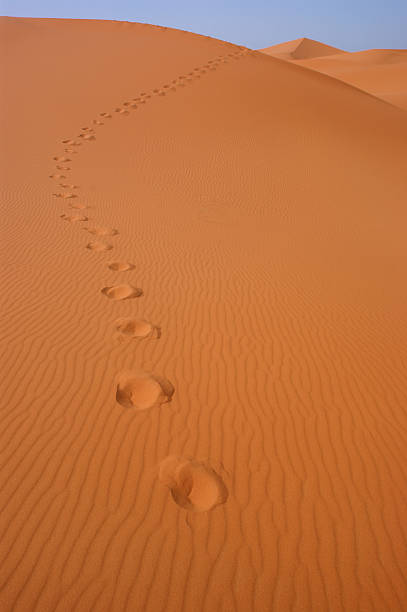animal_footprint: (159, 456, 227, 511), (116, 371, 174, 410), (114, 317, 160, 341), (101, 284, 142, 299), (84, 226, 118, 235), (107, 261, 135, 271), (86, 241, 112, 251), (60, 213, 87, 222), (52, 192, 77, 198), (78, 133, 95, 141), (58, 183, 78, 189), (68, 203, 88, 209), (53, 156, 71, 161), (49, 174, 66, 179), (56, 164, 70, 170), (100, 112, 111, 118), (93, 119, 103, 125)
